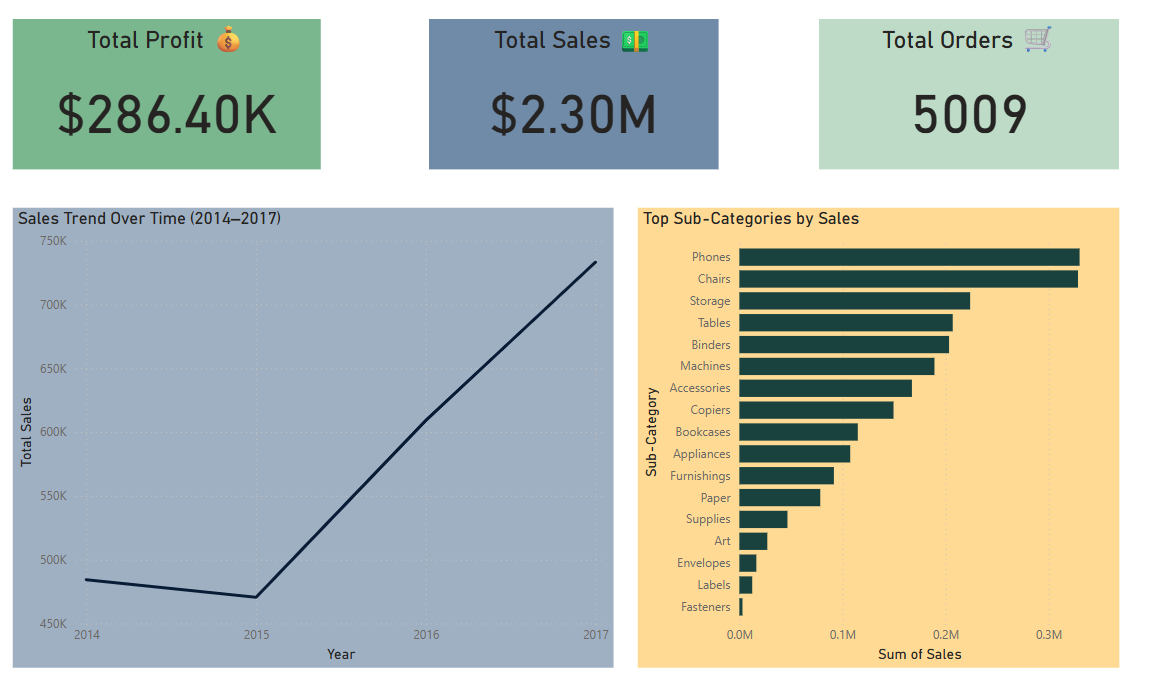

This screenshot's page, from the dashboard's own definition file:
{"tool":"powerbi","page":{"name":"Page 1","canvas":[1280,720],"ordinal":0},"visuals":[{"type":"lineChart","title":"Sales Trend Over Time (2014–2017)","fields":{"Y":["Sum(Sample - Superstore.Sales)"],"Category":["Sample - Superstore.Year"]},"box":[38.4,218.2,601,459.7],"z":0},{"type":"barChart","title":"Top Sub-Categories by Sales","fields":{"Y":["Sum(Sample - Superstore.Sales)"],"Category":["Sample - Superstore.Sub-Category"]},"box":[664.2,218.2,481.6,459.7],"z":1000},{"type":"card","title":"Total Profit 💰","fields":{"Values":["Sum(Sample - Superstore.Profit)"]},"box":[38.4,30.2,308.1,150],"z":2000},{"type":"card","title":"Total Sales 💵","fields":{"Values":["Sum(Sample - Superstore.Sales)"]},"box":[454.7,30.2,289.5,150],"z":3000},{"type":"card","title":"Total Orders 🛒","fields":{"Values":["Sample - Superstore.Total orders"]},"box":[845.4,30.2,300,150],"z":4000}]}

Visuals, with their boxes on the page's 1280x720 design canvas (x1, y1, x2, y2). These are canvas units, not pixel positions in the 1153x692 screenshot, which may show the page scaled, cropped or inside an application window:
"Sales Trend Over Time (2014–2017)" lineChart: 38, 218, 639, 678
"Top Sub-Categories by Sales" barChart: 664, 218, 1146, 678
"Total Profit 💰" card: 38, 30, 346, 180
"Total Sales 💵" card: 455, 30, 744, 180
"Total Orders 🛒" card: 845, 30, 1145, 180
